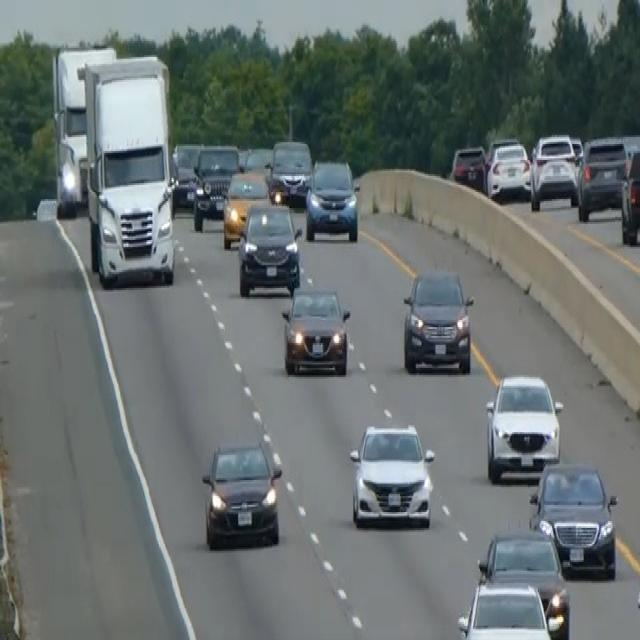car: (528, 458, 618, 578), (476, 526, 570, 638), (348, 420, 435, 530), (201, 438, 282, 550), (484, 370, 563, 482), (281, 283, 351, 377), (236, 199, 302, 297), (456, 576, 554, 638), (304, 156, 360, 242), (576, 134, 627, 220), (192, 142, 240, 231), (222, 167, 270, 249), (529, 132, 578, 210), (267, 137, 313, 206), (486, 137, 531, 201), (170, 140, 202, 208), (620, 146, 639, 245), (450, 142, 486, 192), (243, 146, 272, 176)
jeep: (401, 265, 474, 375)
lorry: (77, 52, 176, 288)
